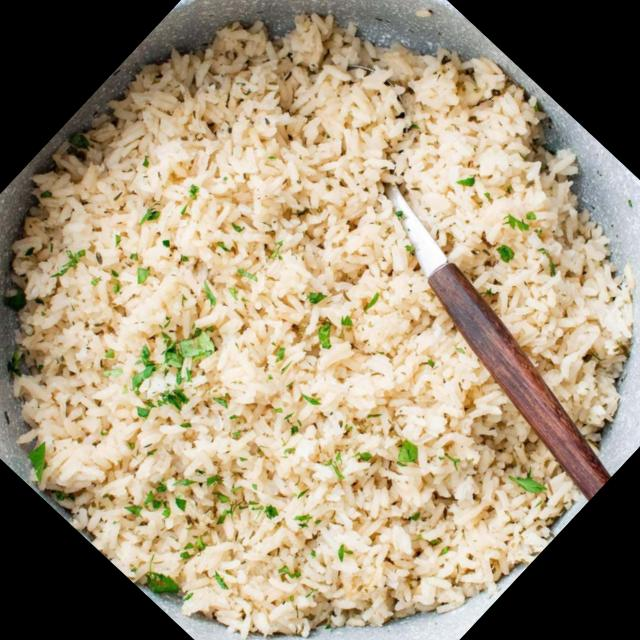rice: (7, 22, 630, 631)
